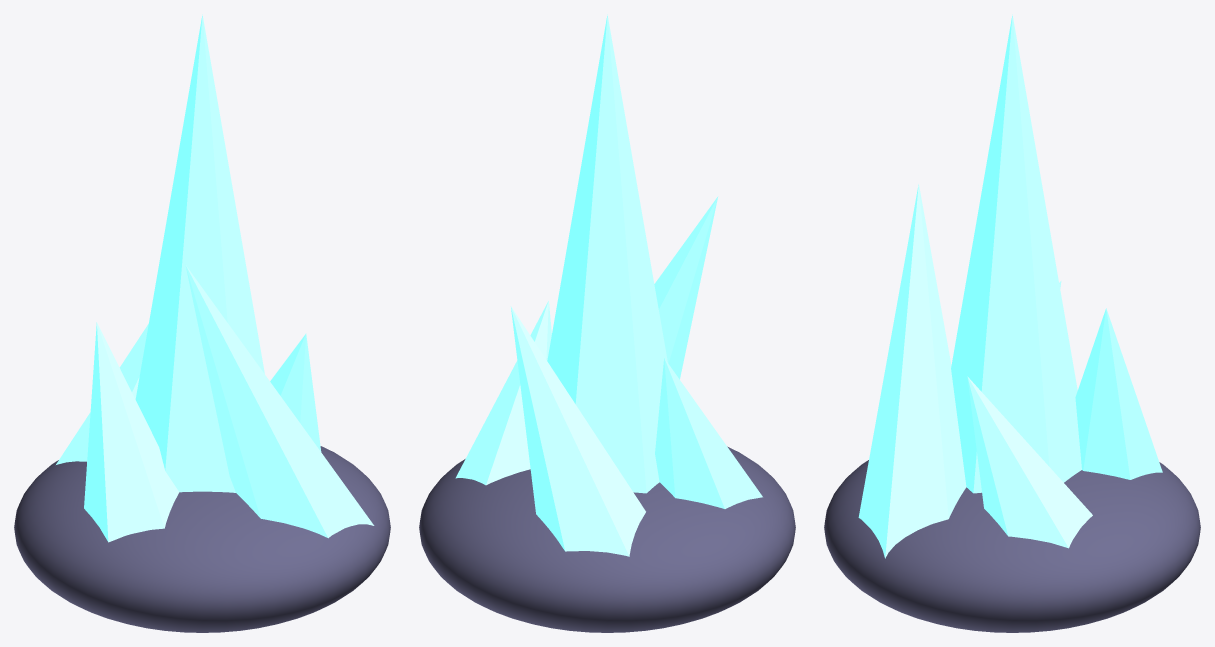
File: crystal.glb
The picture shows the model from 3 angles, left to right: view 1: azimuth 30°, elevation 25°; view 2: azimuth 150°, elevation 25°; view 3: azimuth 270°, elevation 25°; orthographic projection.
Visible parts, largest first — view 1: Base, Shard0, Shard3, Shard2, Shard4, Shard1; view 2: Base, Shard0, Shard1, Shard2, Shard4, Shard3; view 3: Base, Shard0, Shard3, Shard4, Shard1.
Part boxes in pixels (x1=…): Base: x1=14, y1=446, x2=390, y2=632; Shard0: x1=135, y1=14, x2=264, y2=492; Shard3: x1=185, y1=265, x2=374, y2=538; Shard2: x1=84, y1=322, x2=179, y2=542; Shard4: x1=270, y1=333, x2=321, y2=451; Shard1: x1=56, y1=323, x2=148, y2=464; Base: x1=419, y1=446, x2=795, y2=632; Shard0: x1=547, y1=14, x2=667, y2=493; Shard1: x1=511, y1=306, x2=645, y2=556; Shard2: x1=655, y1=358, x2=762, y2=508; Shard4: x1=455, y1=300, x2=551, y2=485; Shard3: x1=654, y1=196, x2=718, y2=379; Base: x1=824, y1=460, x2=1200, y2=632; Shard0: x1=951, y1=14, x2=1081, y2=493; Shard3: x1=858, y1=184, x2=966, y2=558; Shard4: x1=967, y1=376, x2=1092, y2=548; Shard1: x1=1075, y1=308, x2=1162, y2=479.
Bounding box in the file's own units: 0.8841 × 1.51 × 0.8841.
